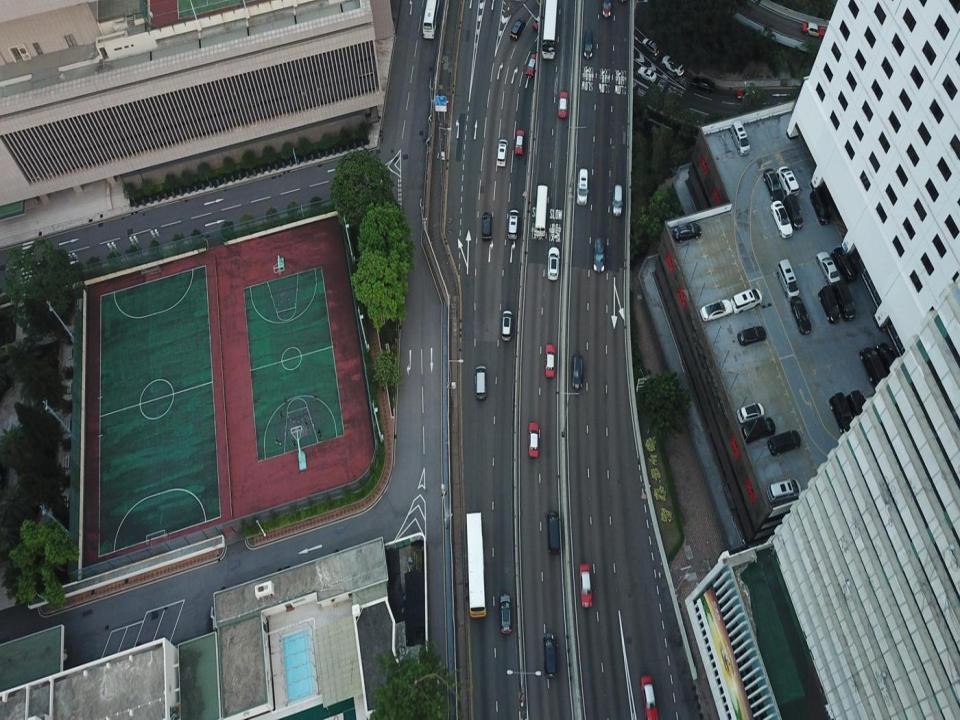bus: (465, 512, 487, 618), (542, 0, 555, 59), (534, 185, 547, 236), (422, 0, 439, 38)
car: (860, 347, 889, 389), (765, 479, 802, 504), (767, 430, 801, 456), (741, 418, 776, 443), (816, 250, 841, 285), (771, 200, 793, 239), (730, 288, 762, 313), (790, 296, 811, 334), (640, 675, 658, 719), (700, 298, 732, 322), (764, 168, 782, 204), (547, 510, 561, 554), (736, 402, 764, 424), (876, 343, 898, 371), (672, 223, 702, 243), (579, 562, 592, 608), (737, 326, 766, 346), (543, 633, 556, 677), (499, 593, 512, 634), (592, 237, 605, 273), (528, 421, 540, 458), (475, 366, 488, 400), (662, 56, 684, 76), (547, 246, 560, 279), (544, 344, 556, 378), (571, 354, 583, 388), (691, 77, 713, 94), (510, 18, 526, 40), (802, 22, 824, 38), (481, 212, 493, 241), (501, 310, 512, 341), (508, 210, 519, 240), (496, 139, 508, 166), (642, 38, 660, 56), (638, 66, 656, 83), (526, 54, 538, 76), (736, 88, 758, 100), (514, 130, 524, 154), (532, 12, 546, 29), (558, 91, 567, 117), (602, 0, 611, 18)
van: (828, 392, 854, 436), (776, 258, 800, 300), (831, 248, 859, 283), (834, 282, 856, 322), (818, 285, 840, 324), (846, 390, 869, 427), (783, 194, 804, 230), (810, 187, 830, 224), (777, 166, 799, 197), (730, 121, 750, 155), (577, 168, 588, 206), (612, 185, 623, 216), (584, 29, 592, 58)
